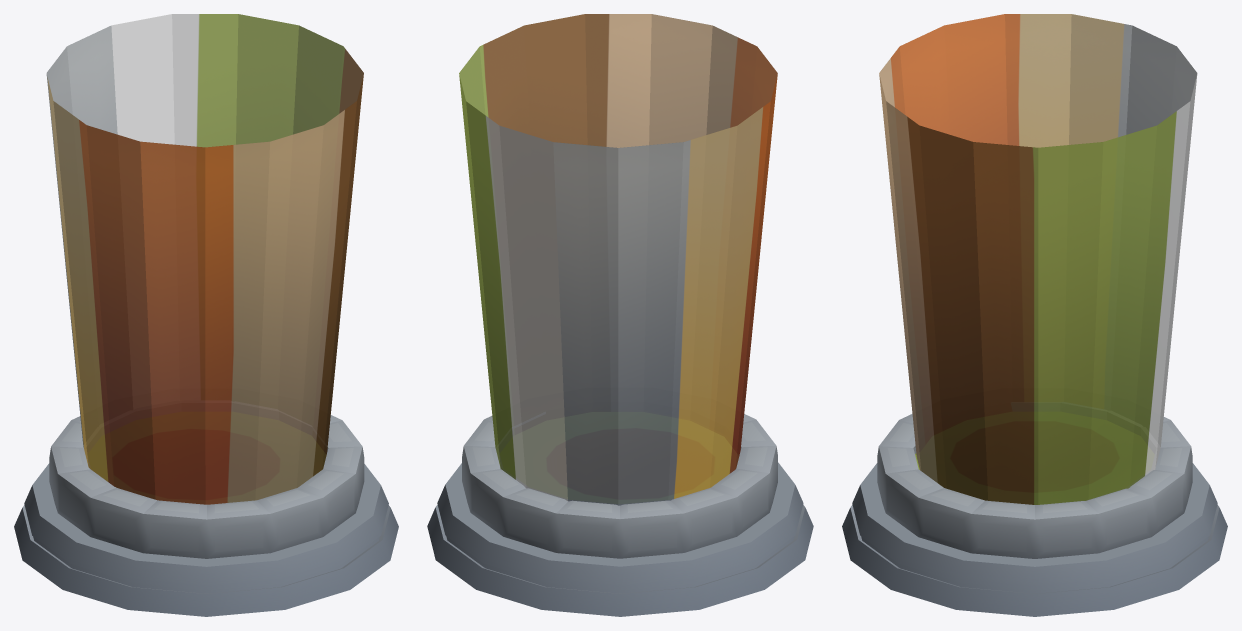
File: Pillar.fbx
3 views of the same model, side by side, from view 1: azimuth 30°, elevation 25°; view 2: azimuth 150°, elevation 25°; view 3: azimuth 270°, elevation 25° (orthographic).
Visible parts, largest first — view 1: pCylinder2, pCylinder1; view 2: pCylinder2, pCylinder1; view 3: pCylinder2, pCylinder1.
Part boxes in pixels (<box>): pCylinder2: <box>46,14,363,504</box>; pCylinder1: <box>14,415,398,616</box>; pCylinder2: <box>459,14,777,505</box>; pCylinder1: <box>427,414,813,616</box>; pCylinder2: <box>879,14,1197,504</box>; pCylinder1: <box>842,414,1227,616</box>.
Bounding box in the file's own units: 2.44 × 3.2 × 2.46.
2 materials, 2 textured.
